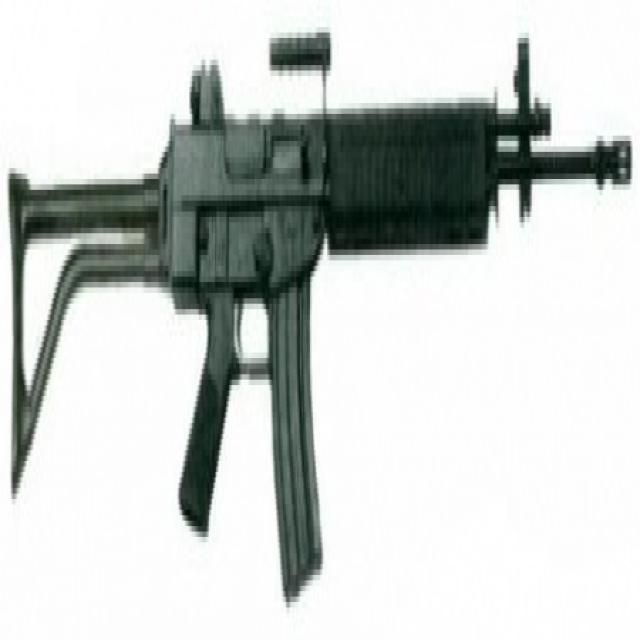rifle: (1, 12, 634, 640)
